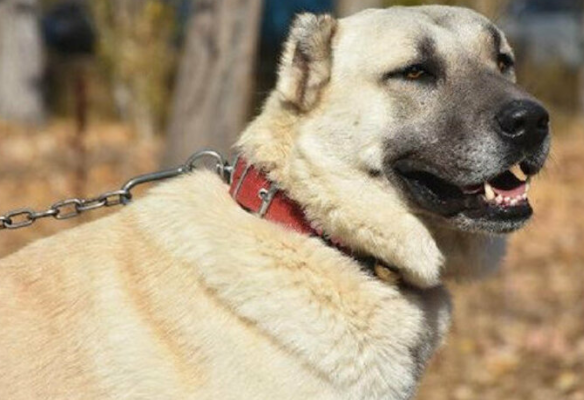dog: (0, 9, 554, 400)
